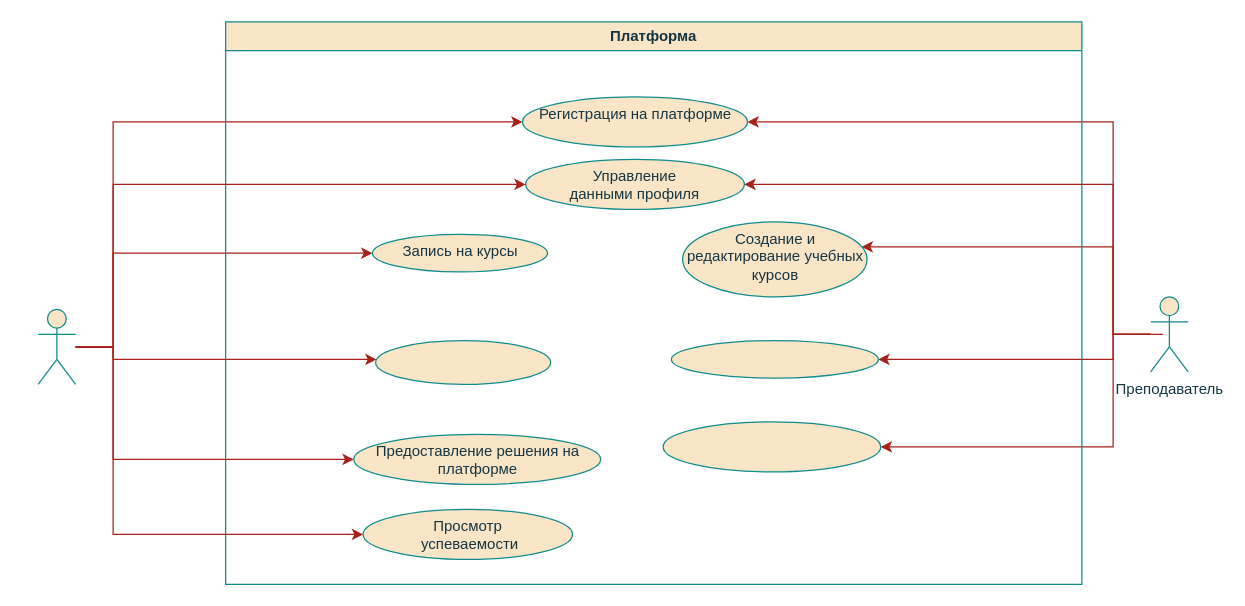
Image size: 1245x606. Some labels were removed from this diagram. Each missing label, with the box of its shape:
Проверка задания: (670, 339, 878, 378)
Просмотр содержания курсов: (374, 339, 551, 384)
Просмотр успеваемости учащихся: (662, 421, 881, 472)
Учащийся: (37, 308, 76, 384)
